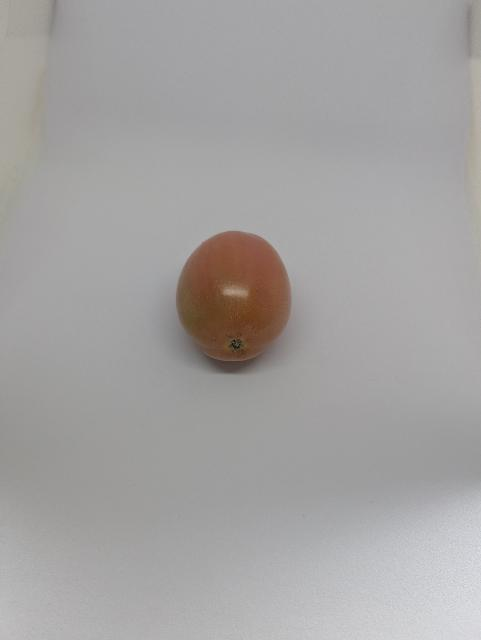turning: (171, 223, 299, 377)
